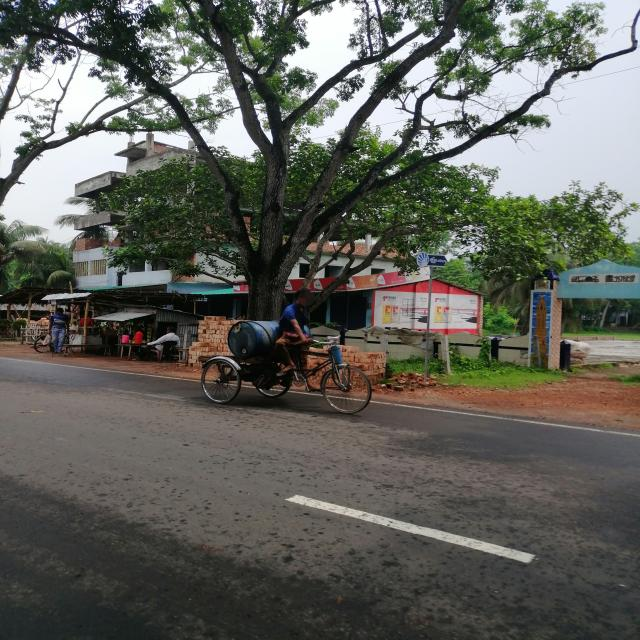Van: (185, 334, 390, 418)
